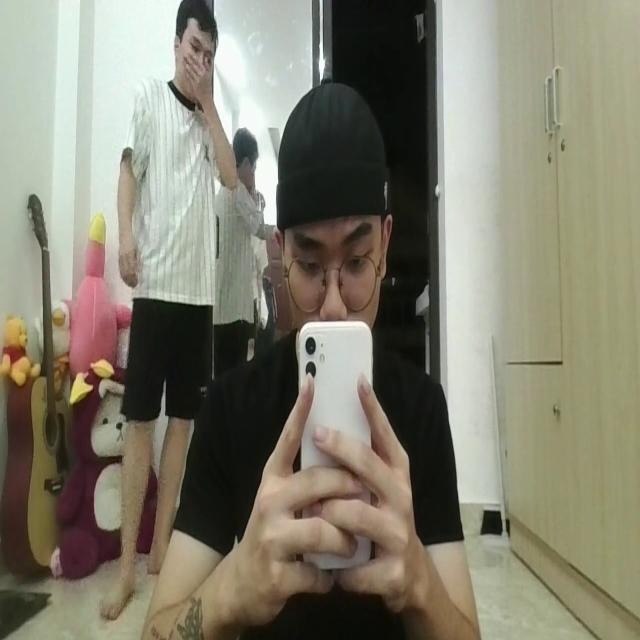extra_person: (100, 0, 240, 629)
phone: (298, 314, 374, 572)
student: (154, 77, 480, 640)
